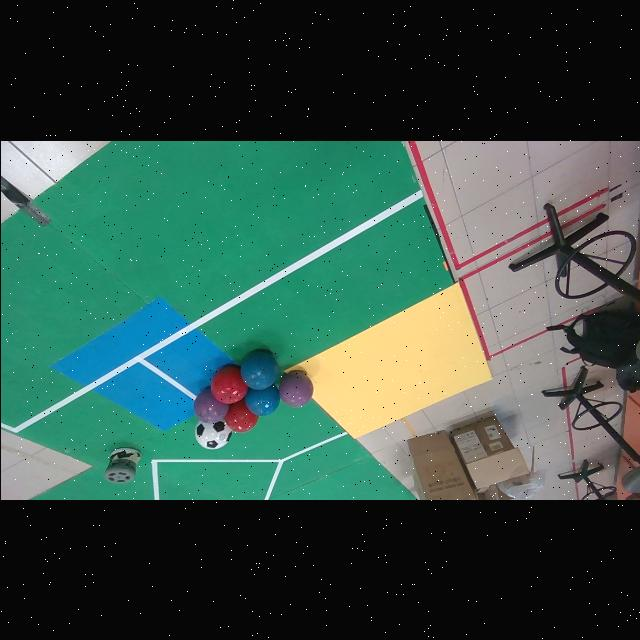B: (239, 349, 277, 390), (243, 385, 280, 416)
P: (193, 388, 229, 424), (279, 370, 313, 407)
R: (210, 366, 247, 403), (223, 399, 258, 433)
